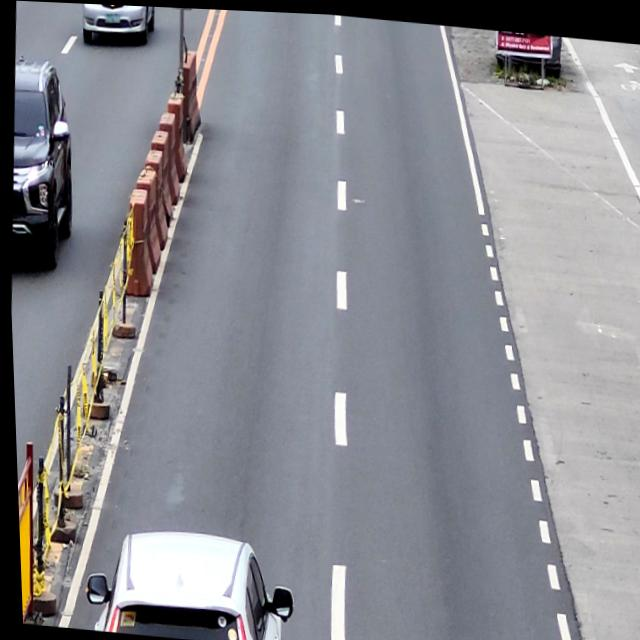Car: (78, 523, 293, 640)
